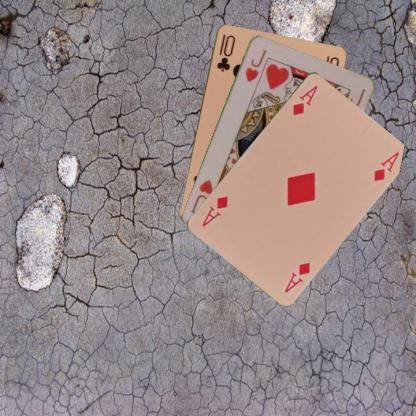10c: (214, 31, 236, 73)
Ad: (289, 82, 319, 117), (282, 259, 312, 294)
Jh: (242, 46, 268, 83)
